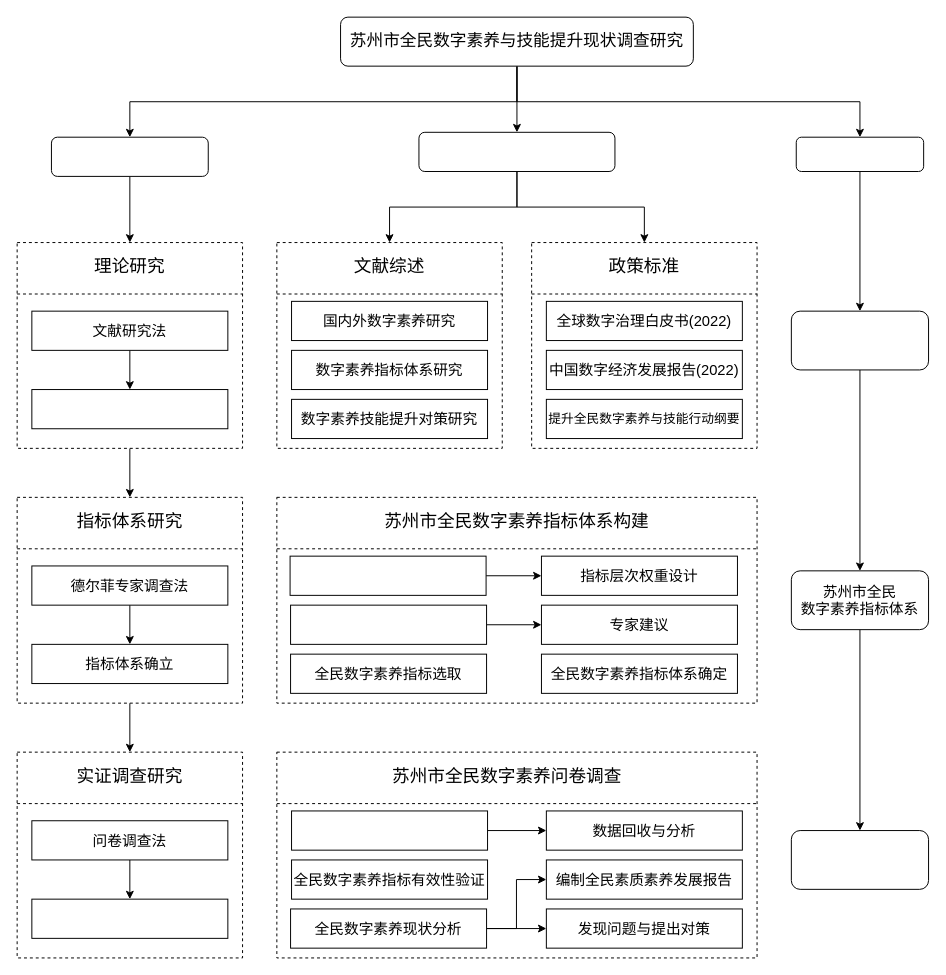
Image size: 946x975. Some labels were removed from this diagram. Here are the shapes that lost their labels. From the top down, the centre of each, then its label:
At point (129, 156): "研究阶段与研究方法".
At point (516, 151): "研究内容".
At point (859, 154): "阶段性成果".
At point (859, 340): "苏州市全民 数字素养理论要素".
At point (129, 409): "梳理苏州市全民数字素养要素".
At point (387, 575): "维度分析与指标体系顶层设计".
At point (388, 624): "专家访谈调查".
At point (389, 830): "调查问卷设计与发放".
At point (859, 859): "苏州市全民 数字素养报告".
At point (129, 918): "现状分析".
